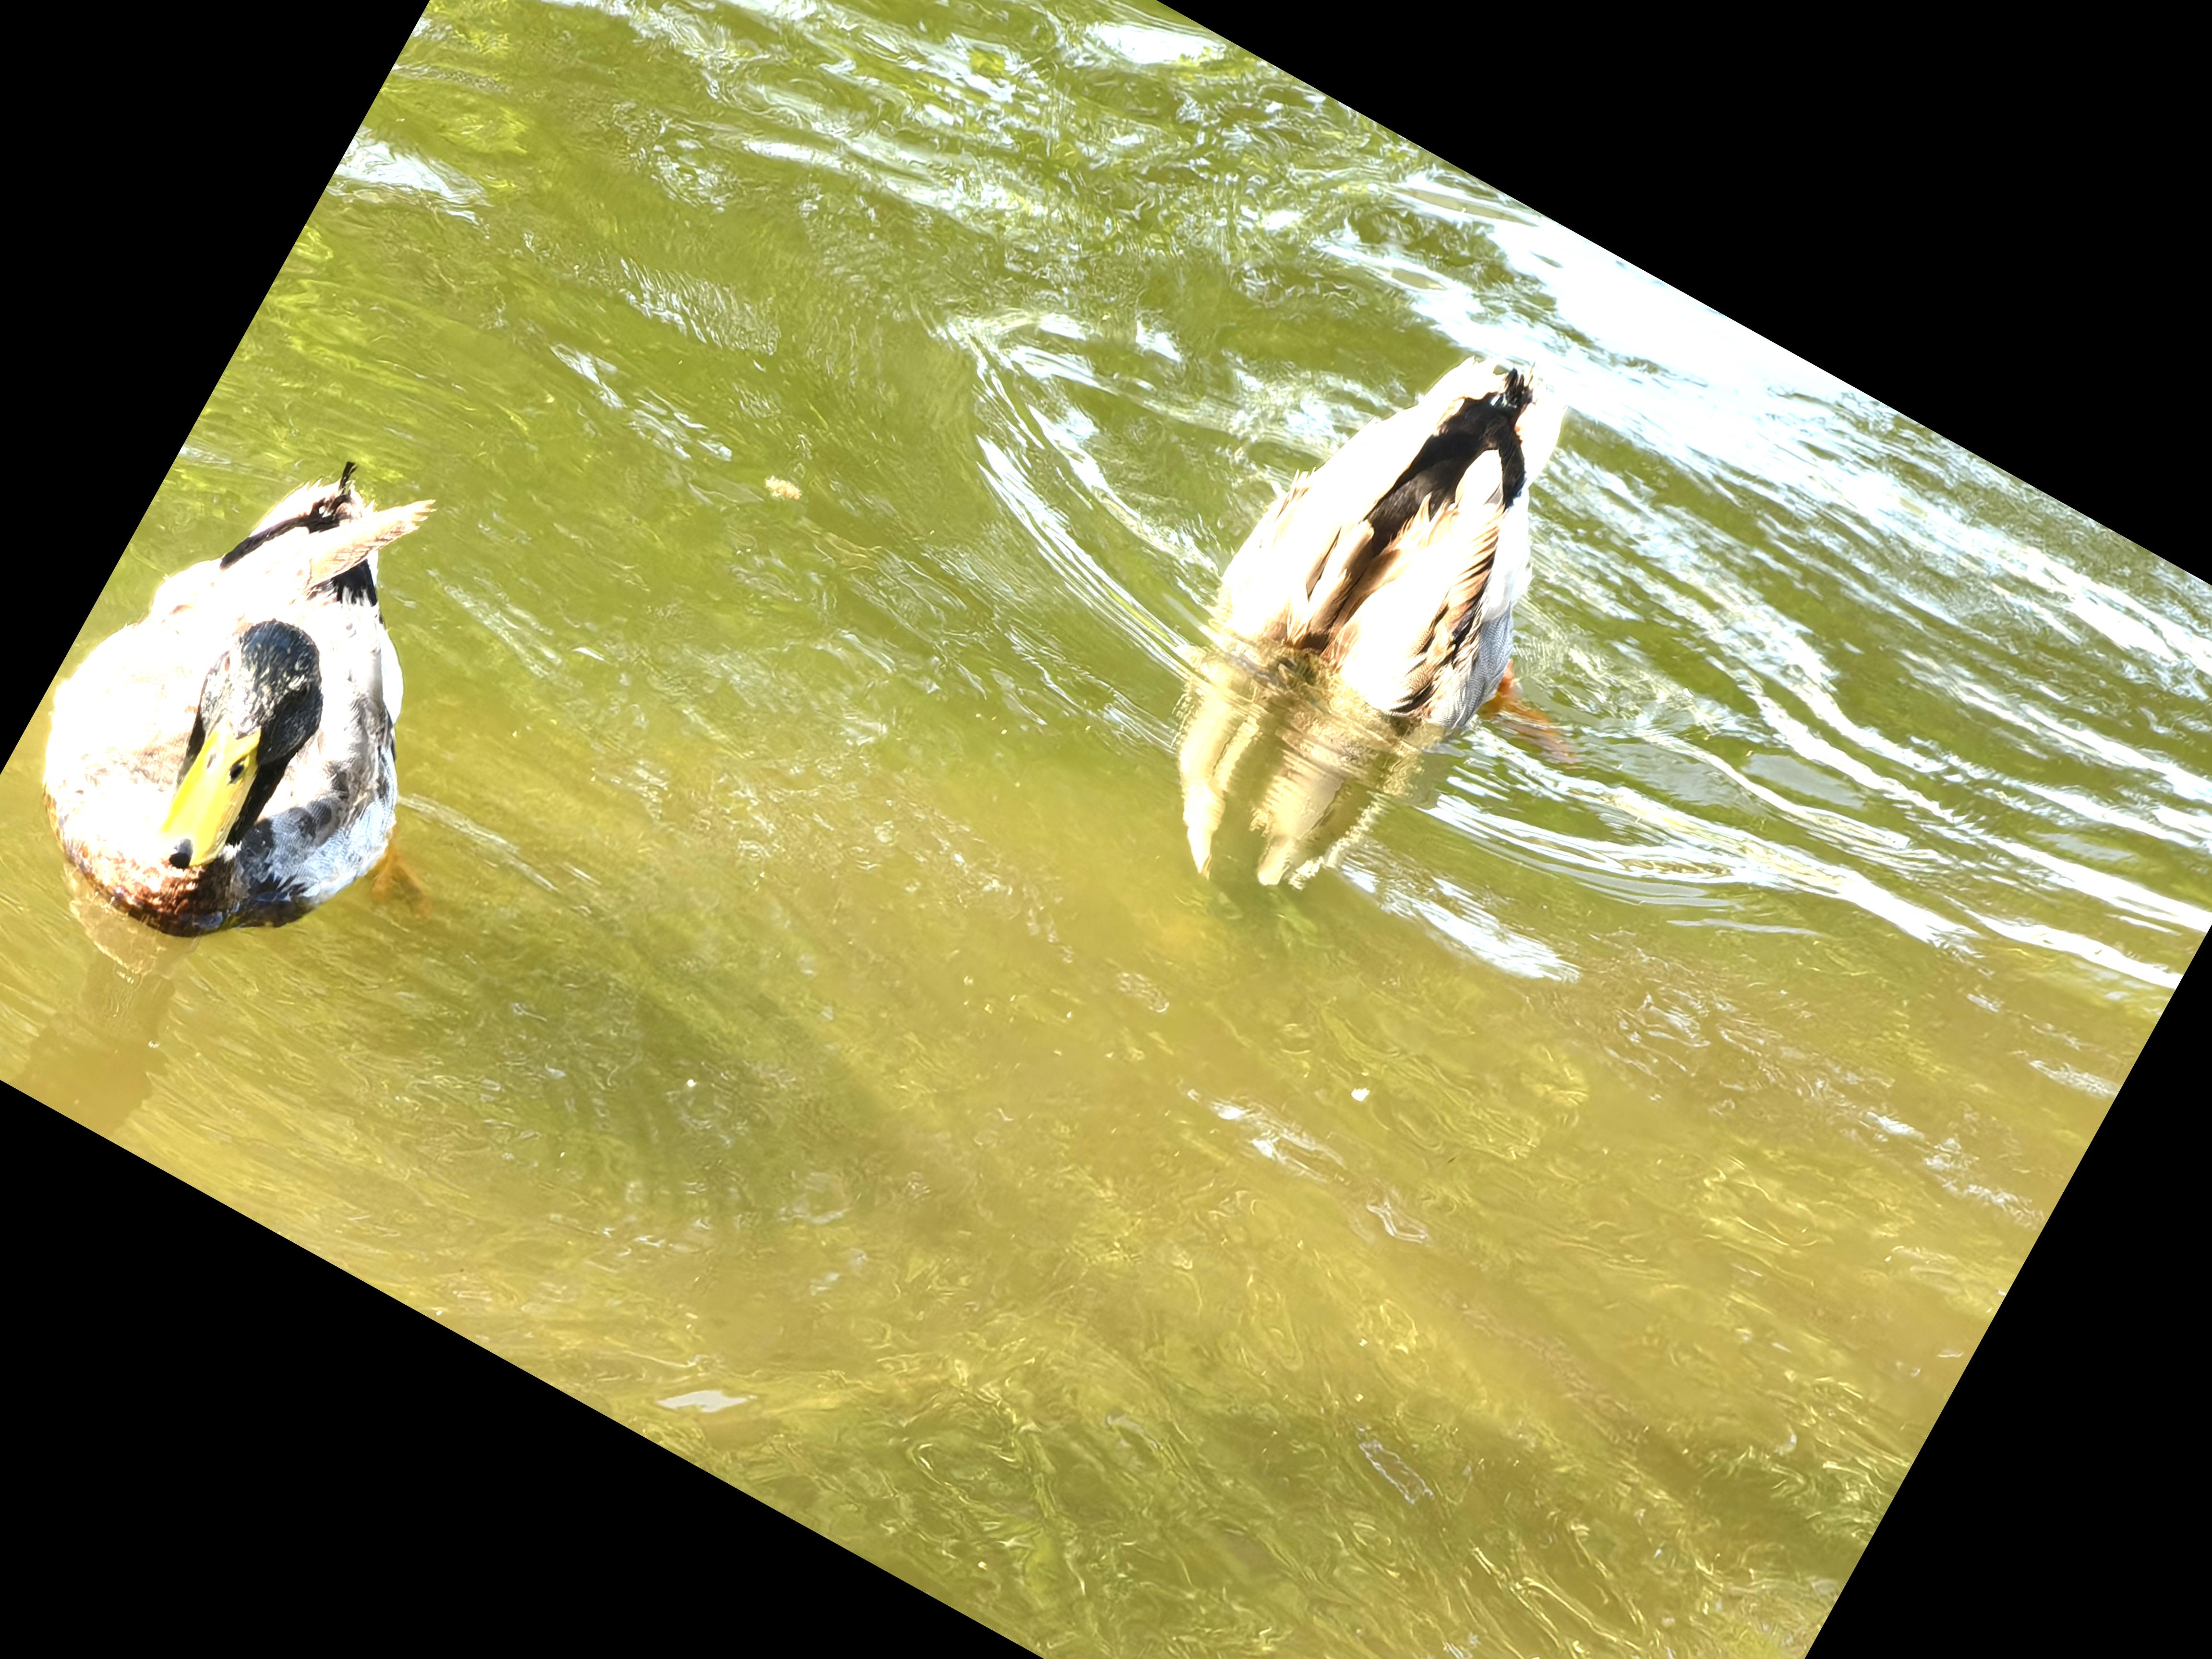duck: (0, 362, 611, 1103), (1141, 235, 1756, 838)
